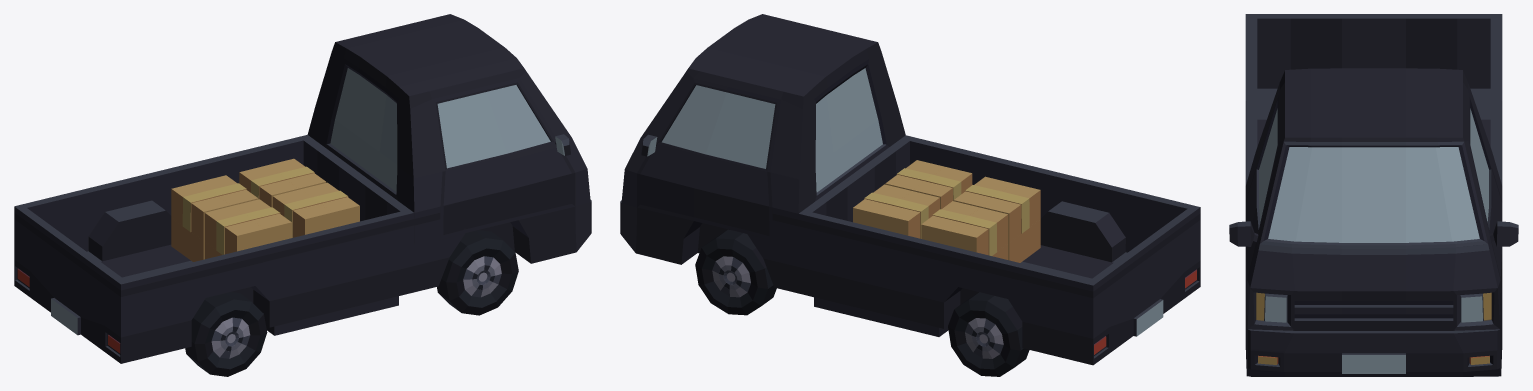
File: MobilL300.fbx
The picture shows the model from 3 angles, left to right: view 1: azimuth 30°, elevation 25°; view 2: azimuth 150°, elevation 25°; view 3: azimuth 270°, elevation 25°; orthographic projection. The views are drawn at different scales.
Visible parts, largest first — view 1: Cube, Cube.003, Cube.002, Cube.001, Cube.004; view 2: Cube, Cube.002, Cube.003, Cube.004, Cube.001; view 3: Cube.
Boxes of the visible parts, <box> form: Cube: <box>14,14,591,376</box>; Cube.003: <box>171,175,258,261</box>; Cube.002: <box>204,199,291,259</box>; Cube.001: <box>272,182,359,237</box>; Cube.004: <box>239,158,326,207</box>; Cube: <box>620,14,1200,376</box>; Cube.002: <box>953,176,1040,262</box>; Cube.003: <box>921,201,1008,259</box>; Cube.004: <box>853,184,939,238</box>; Cube.001: <box>885,160,972,209</box>; Cube: <box>1229,14,1518,376</box>.
Size of the model in its own units: 882 by 392 by 381.
